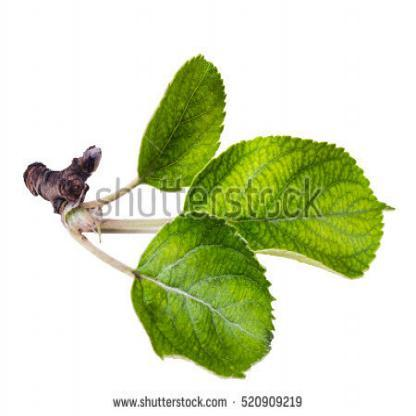Apple leaf: (185, 119, 396, 296), (120, 214, 286, 387), (136, 46, 240, 188)
